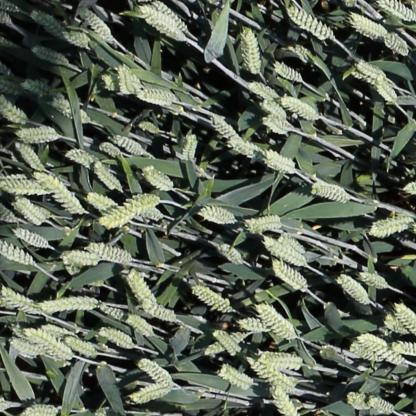whd: (97, 190, 161, 228), (33, 170, 83, 214), (226, 136, 283, 167), (245, 356, 298, 389), (286, 7, 334, 40), (256, 304, 296, 340), (0, 172, 53, 198), (263, 237, 305, 268), (125, 268, 157, 308), (367, 213, 416, 238), (137, 358, 179, 387), (216, 364, 256, 394), (78, 7, 112, 42), (38, 295, 100, 314), (0, 287, 40, 316), (238, 26, 261, 76), (28, 330, 71, 356), (202, 333, 246, 358), (144, 17, 186, 43), (210, 114, 245, 145), (91, 158, 122, 192), (192, 286, 230, 313), (336, 274, 370, 304), (272, 261, 307, 290), (151, 2, 186, 31), (350, 12, 386, 40), (12, 140, 43, 172), (128, 381, 172, 403), (311, 182, 352, 205), (270, 382, 297, 416), (280, 96, 318, 119), (0, 242, 34, 267), (52, 98, 87, 122), (197, 204, 237, 225), (31, 10, 64, 35), (257, 350, 302, 368), (14, 198, 44, 225), (89, 241, 131, 260), (0, 95, 28, 123), (212, 330, 240, 358), (116, 62, 140, 94), (378, 1, 416, 21), (140, 300, 174, 322), (13, 228, 48, 249), (30, 45, 68, 64), (373, 74, 397, 104), (238, 314, 272, 335), (142, 166, 172, 189), (245, 214, 281, 233), (110, 134, 144, 154), (133, 90, 175, 106), (394, 304, 416, 334), (97, 330, 133, 348), (61, 249, 99, 266), (64, 148, 96, 168), (18, 126, 60, 141), (383, 33, 410, 56), (272, 62, 303, 82), (366, 394, 395, 415), (263, 150, 295, 169), (43, 326, 76, 344), (259, 99, 287, 120), (64, 337, 96, 355), (217, 244, 243, 266), (127, 315, 153, 337), (142, 6, 172, 25), (356, 334, 385, 353), (278, 234, 305, 254), (246, 81, 276, 99), (261, 116, 289, 135), (98, 303, 126, 322), (358, 272, 389, 289), (11, 338, 40, 356), (356, 61, 385, 78), (20, 404, 60, 416), (350, 343, 378, 360), (22, 80, 55, 94), (182, 131, 196, 164), (86, 193, 116, 208), (352, 70, 380, 86), (0, 201, 19, 224), (61, 31, 88, 46), (385, 316, 406, 334), (136, 206, 161, 221), (99, 70, 115, 92), (392, 342, 416, 356), (98, 142, 121, 156), (347, 394, 368, 409), (0, 80, 22, 94), (0, 8, 14, 28), (382, 350, 401, 364), (137, 122, 158, 132)
